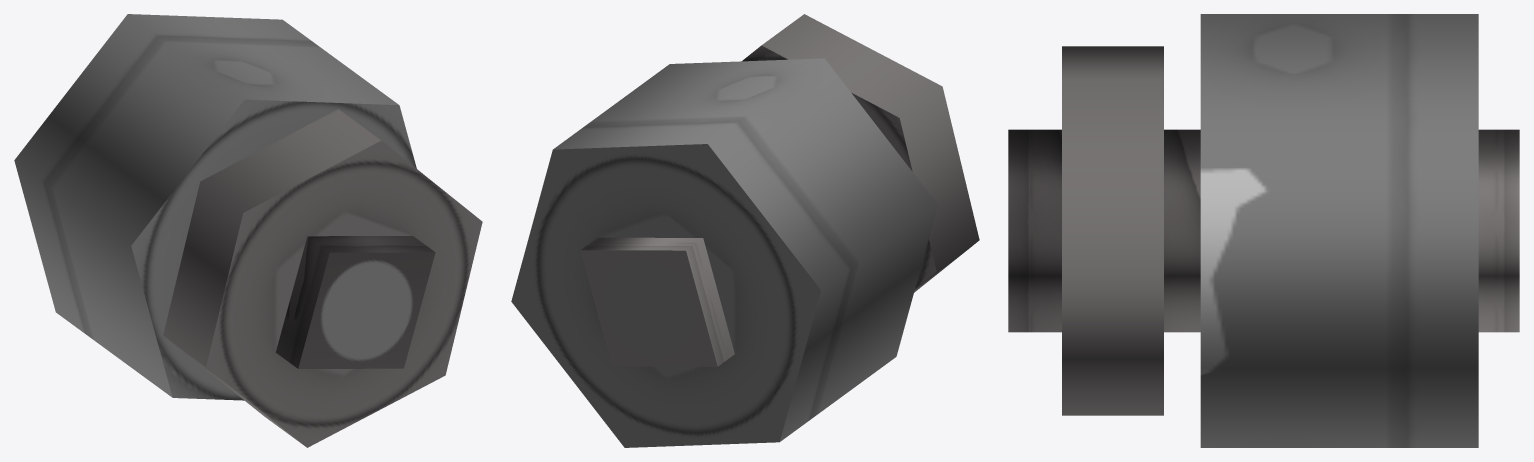
Rendered from obj_interactive_suspensionoffroad_01_on_lod1.fbx.
The picture shows the model from 3 angles, left to right: view 1: azimuth 30°, elevation 25°; view 2: azimuth 150°, elevation 25°; view 3: azimuth 270°, elevation 25°; orthographic projection. The views are drawn at different scales.
Parts seen in each view (by area): view 1: obj_interactive_suspensionoffroad_01_on_lod1; view 2: obj_interactive_suspensionoffroad_01_on_lod1; view 3: obj_interactive_suspensionoffroad_01_on_lod1.
Boxes of the visible parts, box(x1,y1,x2,y2) form: obj_interactive_suspensionoffroad_01_on_lod1: box(14, 14, 482, 447); obj_interactive_suspensionoffroad_01_on_lod1: box(511, 14, 979, 447); obj_interactive_suspensionoffroad_01_on_lod1: box(1008, 14, 1519, 447).
Bounding box in the file's own units: 1.02 × 1.02 × 1.23.
Materials: 1 (1 with a texture image).
